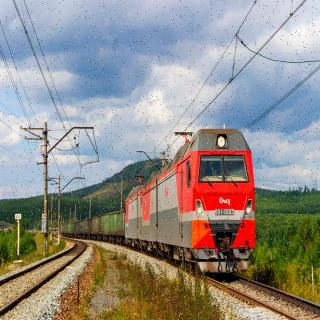poezd: (127, 129, 254, 269)
